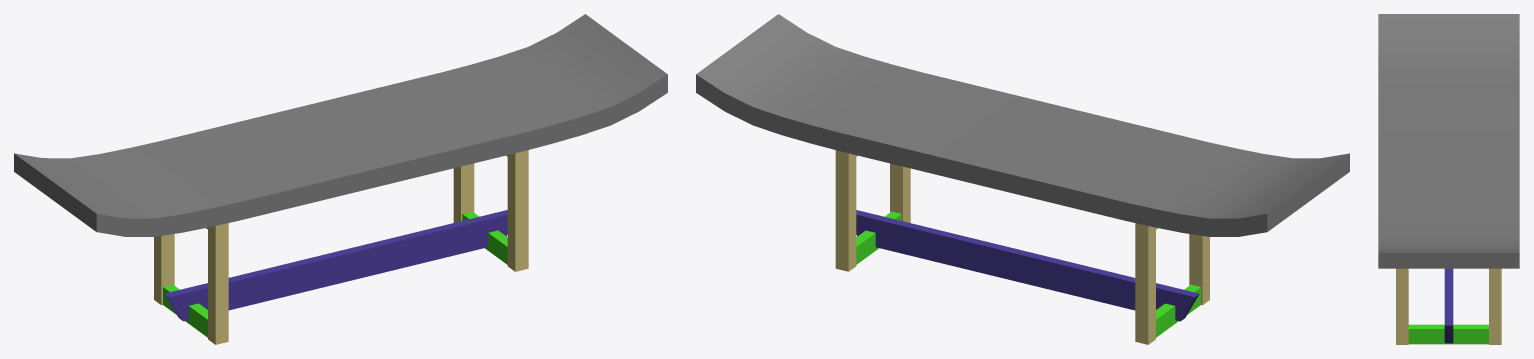
The model's file is Bench.FBX.
3 views of the same model, side by side, from view 1: azimuth 30°, elevation 25°; view 2: azimuth 150°, elevation 25°; view 3: azimuth 270°, elevation 25° (orthographic). The views are drawn at different scales.
Parts seen in each view (by area): view 1: Box625, Box634, Box627, Box626, Box628, Box629, Box630, Box631; view 2: Box625, Box634, Box629, Box628, Box626, Box627, Box630, Box631; view 3: Box625, Box631, Box627, Box629, Box634.
Part boxes in pixels (x1,y1,x2,y2): Box625: (14,14,667,236); Box634: (164,210,507,321); Box627: (507,150,528,271); Box626: (208,223,228,344); Box628: (154,234,174,305); Box629: (453,163,474,222); Box630: (163,284,207,337); Box631: (462,211,507,264); Box625: (696,14,1349,236); Box634: (856,210,1199,321); Box629: (835,150,856,271); Box628: (1135,223,1155,344); Box626: (1189,234,1209,305); Box627: (890,163,910,222); Box630: (1156,284,1200,337); Box631: (856,211,901,264); Box625: (1378,14,1519,268); Box631: (1408,324,1488,344); Box627: (1396,268,1408,344); Box629: (1489,268,1501,344); Box634: (1444,268,1453,343).
Bounding box in the file's own units: 78.74 × 22.44 × 19.69.
